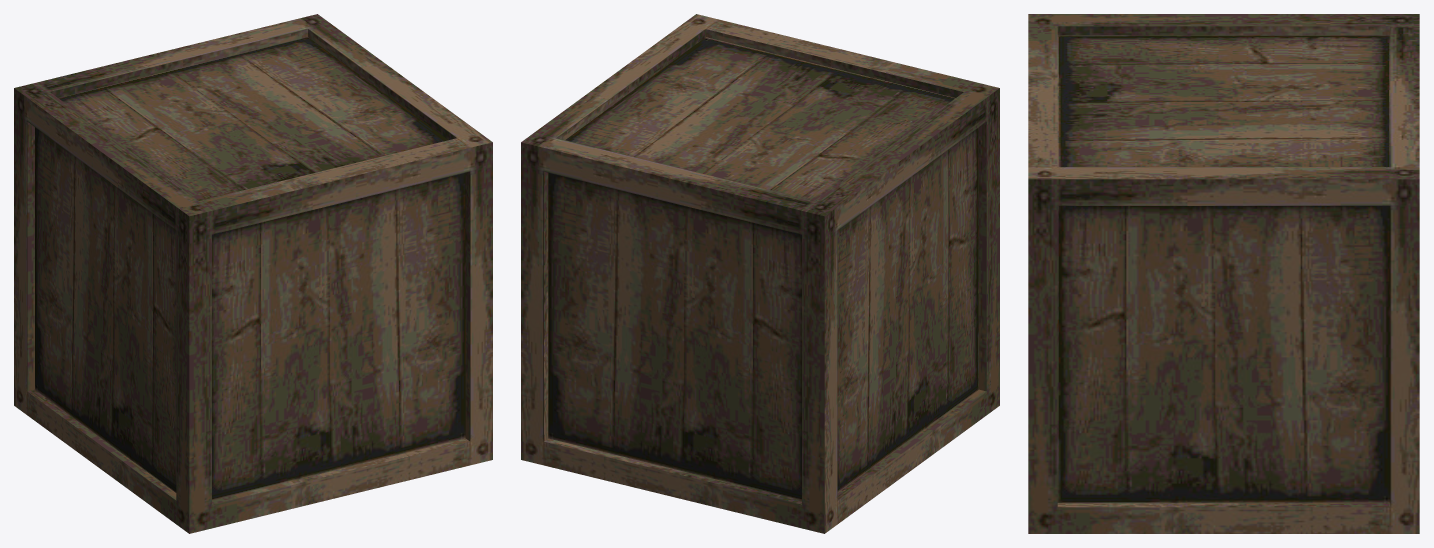
Rendered from psx wood crate.fbx.
The picture shows the model from 3 angles, left to right: view 1: azimuth 30°, elevation 25°; view 2: azimuth 150°, elevation 25°; view 3: azimuth 270°, elevation 25°; orthographic projection. The views are drawn at different scales.
Parts seen in each view (by area): view 1: psx wood crate; view 2: psx wood crate; view 3: psx wood crate.
Part boxes in pixels (x1=…): psx wood crate: x1=14, y1=14, x2=492, y2=533; psx wood crate: x1=521, y1=14, x2=999, y2=533; psx wood crate: x1=1028, y1=14, x2=1419, y2=533.
Size of the model in its own units: 100 by 100 by 100.
Materials: 1 (1 with a texture image).
